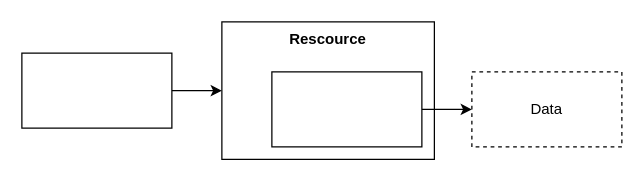
This 644x181 diagram has some shape labels left out. The shapes that lost their labels are listed below. From the top down, each one's centre as x and y in pixels, then its label:
the point at 96,90: Consumer
the point at 346,109: Flyweight
